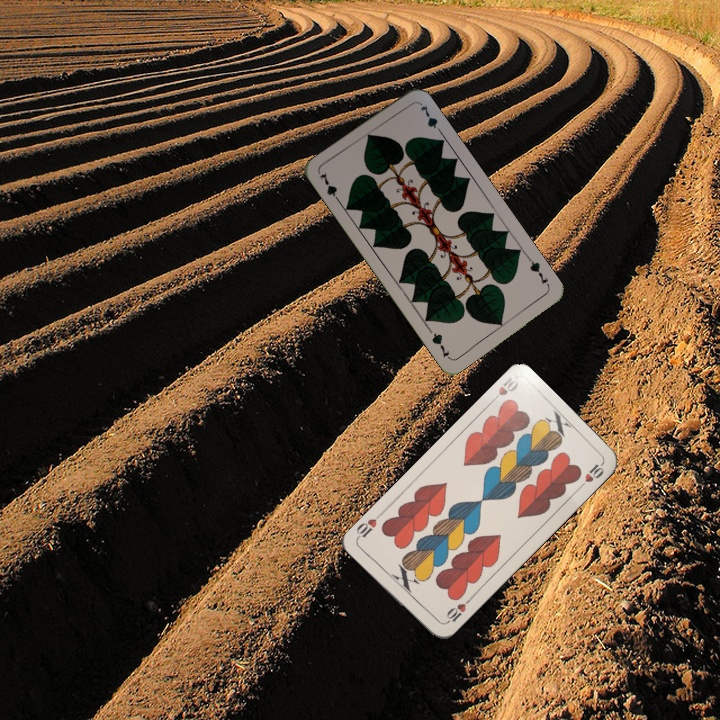G7: (315, 168, 344, 206), (524, 254, 552, 290)
H10: (486, 373, 521, 406), (440, 595, 473, 627)
